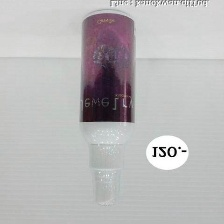cleaning_solution: (75, 7, 138, 209)
